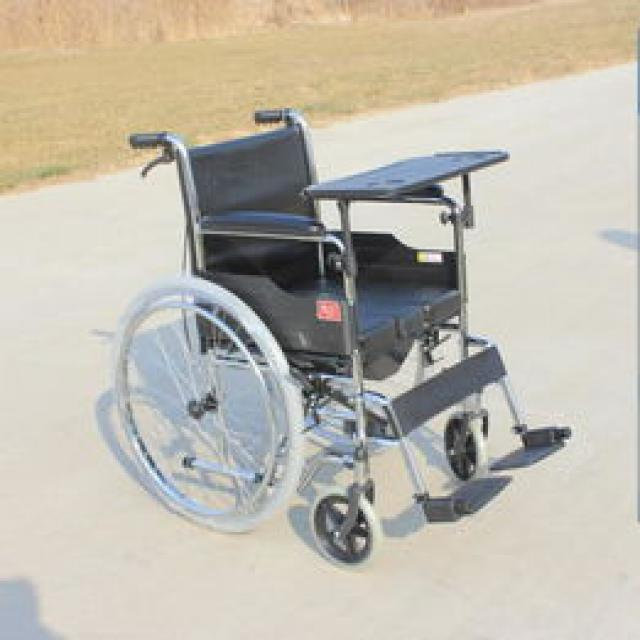wheelchairs: (119, 111, 566, 564)
